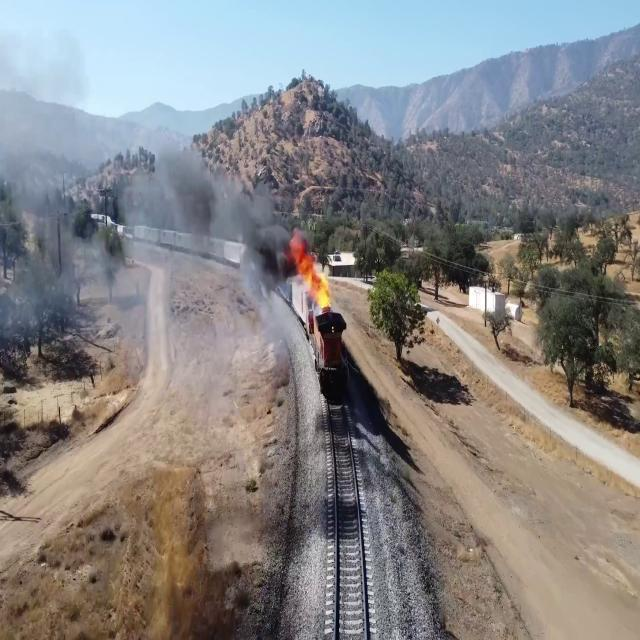Fire: (286, 242, 313, 279), (313, 272, 333, 310)
Smoke: (246, 203, 285, 281)
